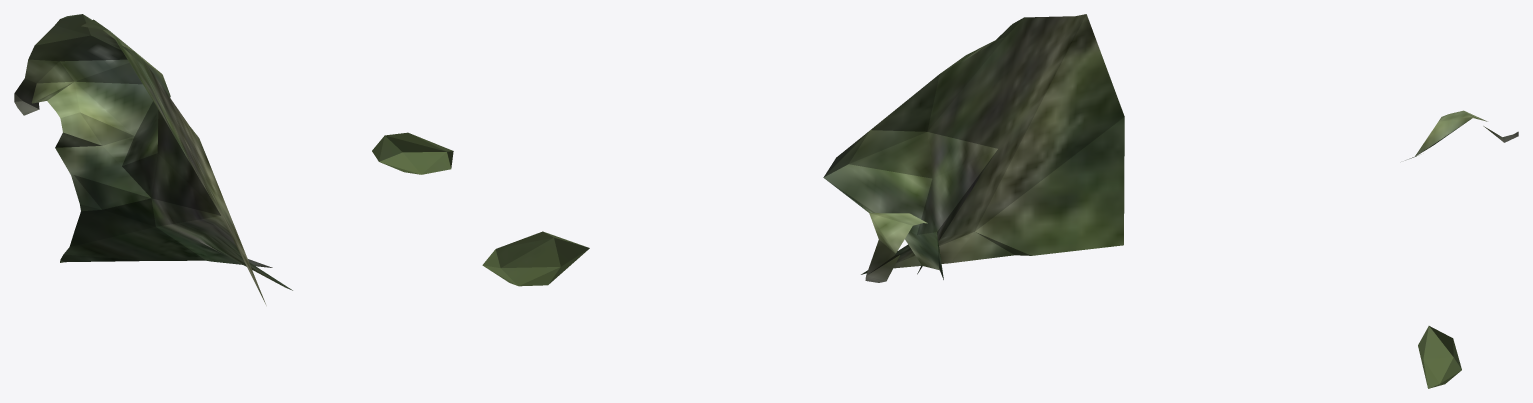
The picture shows the model from 3 angles, left to right: view 1: azimuth 30°, elevation 25°; view 2: azimuth 150°, elevation 25°; view 3: azimuth 270°, elevation 25°; orthographic projection. The views are drawn at different scales.
Size of the model in its own units: 8.7 by 5.74 by 8.48.
Materials: 1 (1 with a texture image).
